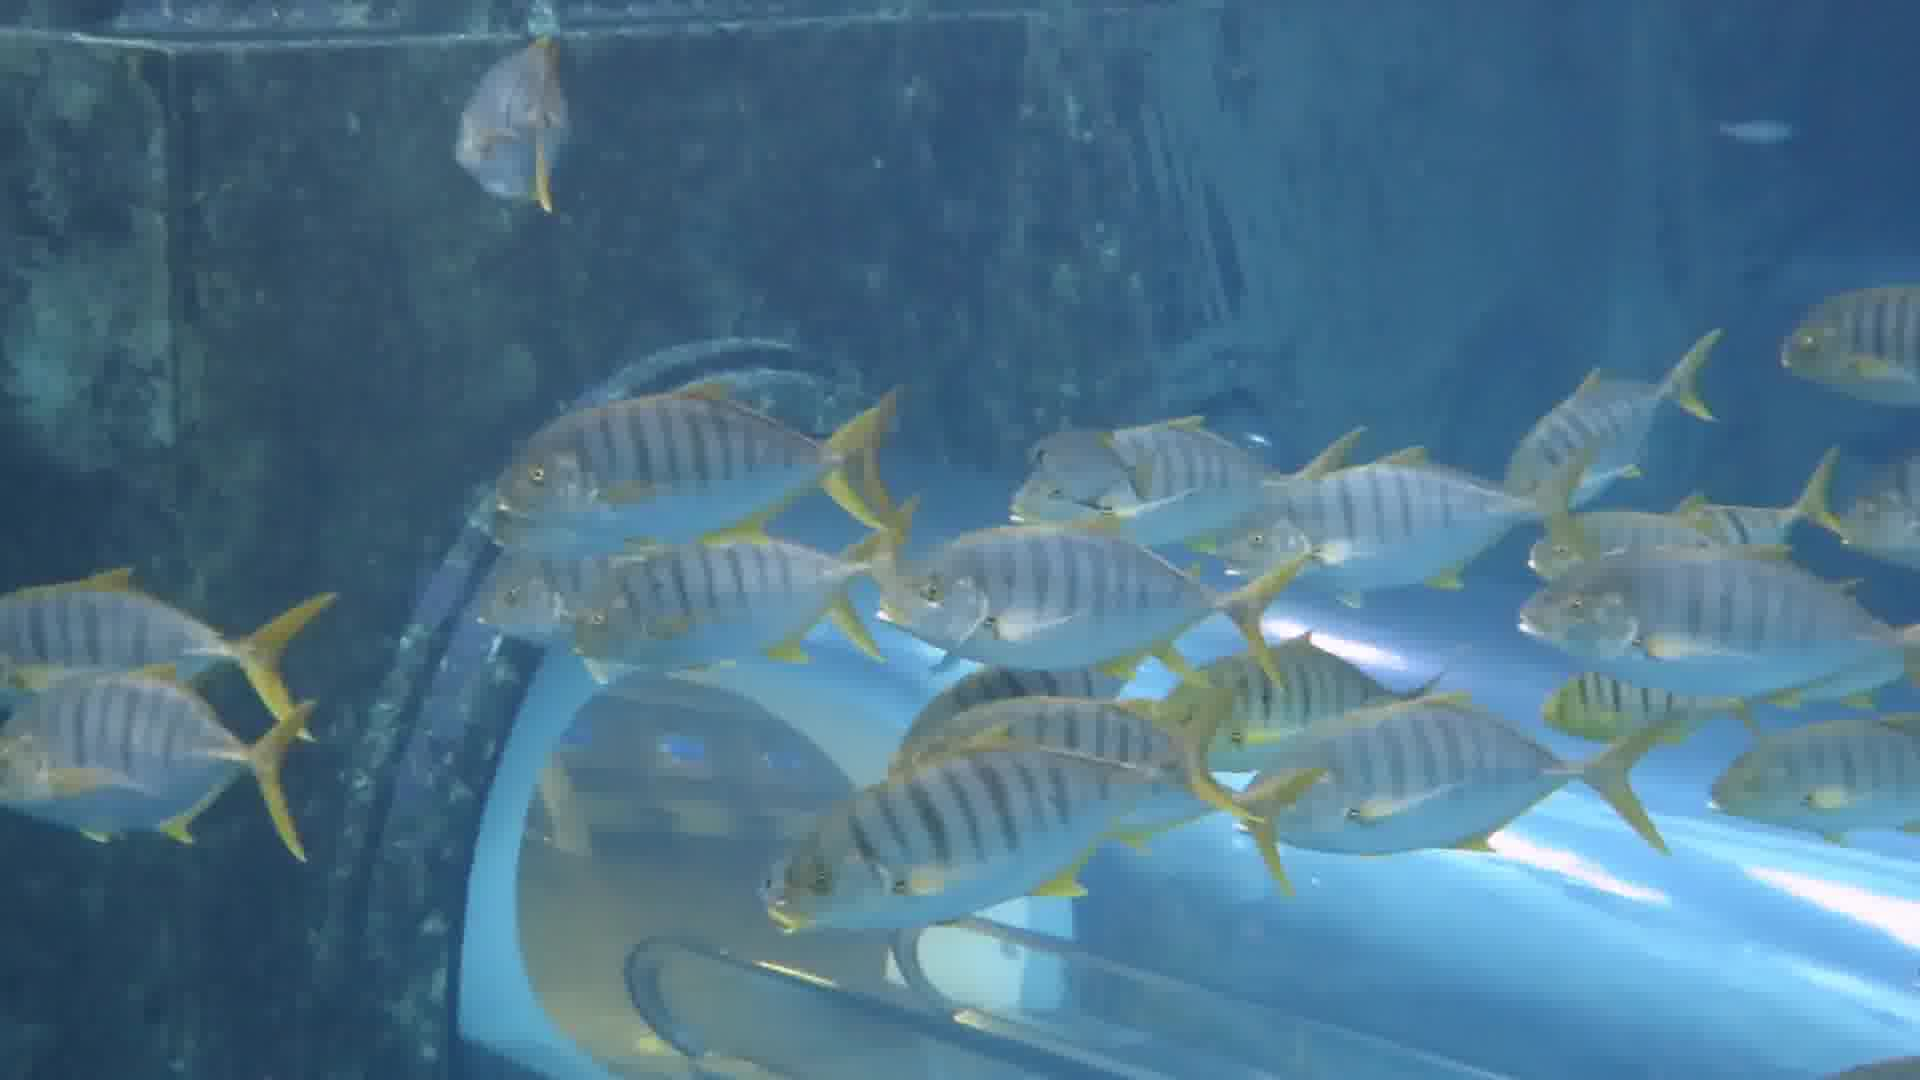Gnathanodon speciosus: (770, 733, 1244, 943), (497, 355, 906, 530), (1, 673, 324, 876), (852, 529, 1302, 663), (1259, 712, 1677, 847), (563, 530, 898, 665), (1501, 546, 1894, 659), (1776, 273, 1909, 396)
